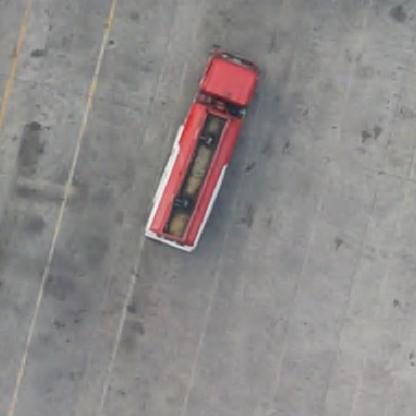truck: (152, 55, 253, 241)
